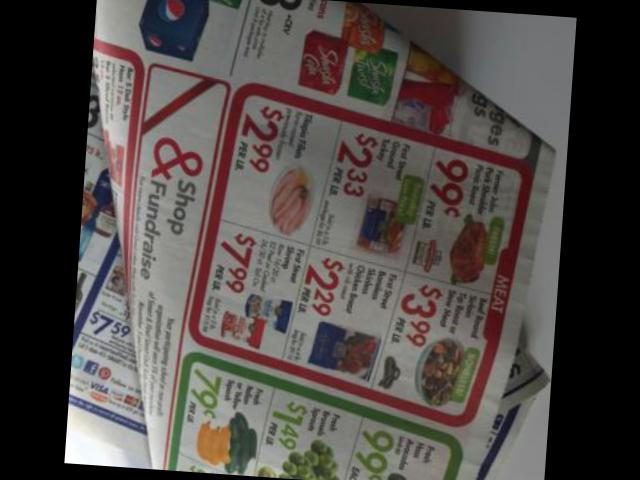cardboard paper: (92, 0, 550, 480)
